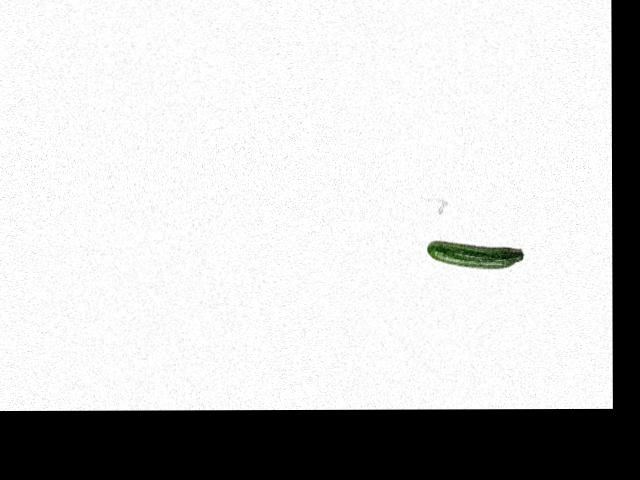cucumber: (426, 241, 523, 268)
